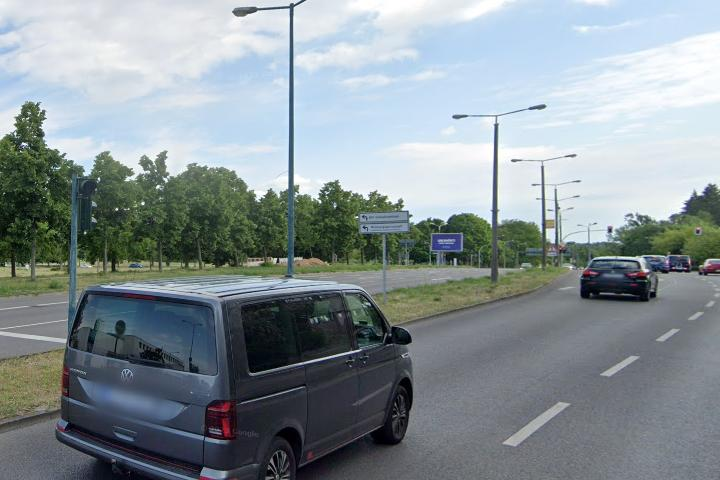vehicle: (54, 271, 417, 480), (578, 254, 660, 303)
